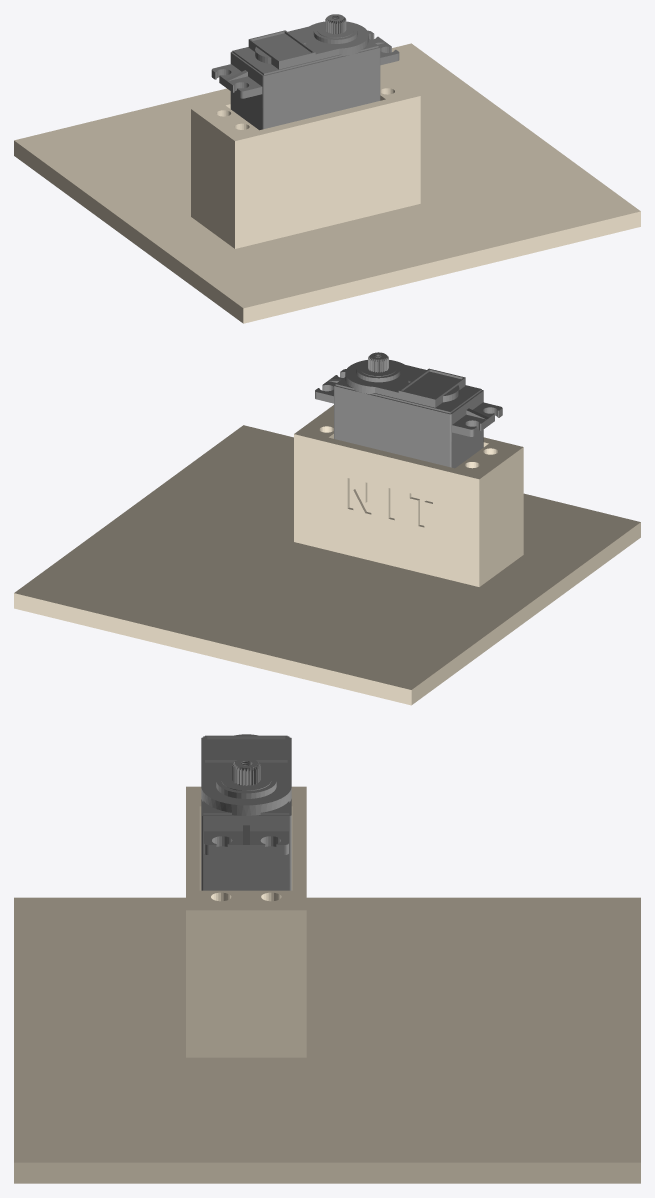
3 views of the same model, one above another, from view 1: azimuth 30°, elevation 25°; view 2: azimuth 150°, elevation 25°; view 3: azimuth 270°, elevation 25° (orthographic). The views are drawn at different scales.
Parts seen in each view (by area): view 1: Node1; view 2: Node1; view 3: Node1.
Boxes of the visible parts, x1=… form: Node1: x1=14, y1=14, x2=640, y2=323; Node1: x1=14, y1=352, x2=640, y2=705; Node1: x1=14, y1=734, x2=640, y2=1183.
Size of the model in its own units: 135 by 65.05 by 135.
